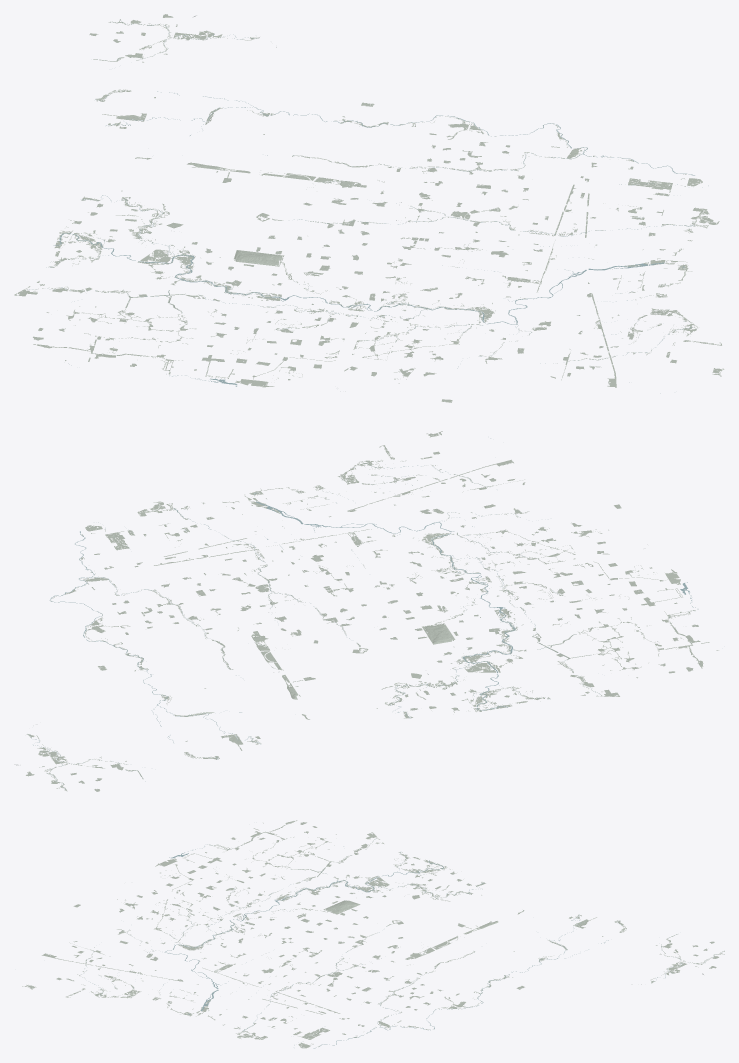
Rendered from citywide-context-17.glb.
The picture shows the model from 3 angles, top to bottom: view 1: azimuth 30°, elevation 25°; view 2: azimuth 150°, elevation 25°; view 3: azimuth 270°, elevation 25°; orthographic projection. The views are drawn at different scales.
Visible parts, largest first — view 1: Park (×3), River; view 2: Park (×3), River; view 3: Park (×3), River.
Part boxes in pixels (x1,y1,x2,y2): Park (×3): (14,14,724,402); River: (29,22,708,393); Park (×3): (26,431,718,791); River: (30,438,698,789); Park (×3): (22,820,724,1048); River: (81,839,716,1048).
Bounding box in the file's own units: 19716 × 139 × 26321.
